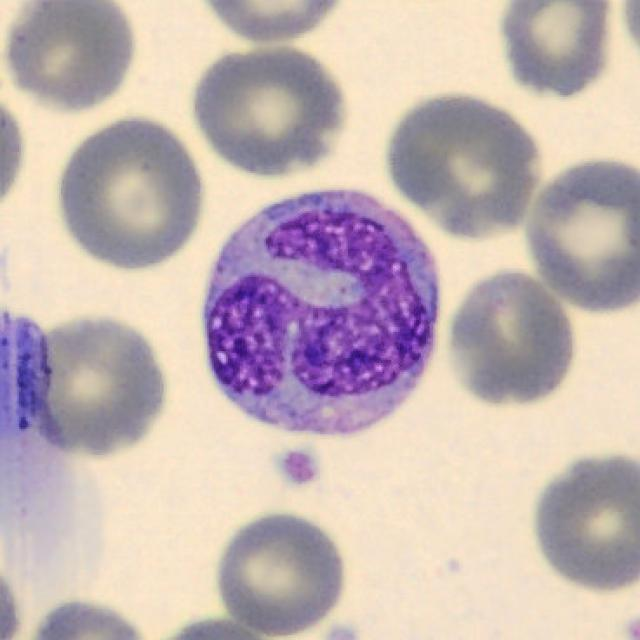Monocito: (202, 190, 442, 438)
